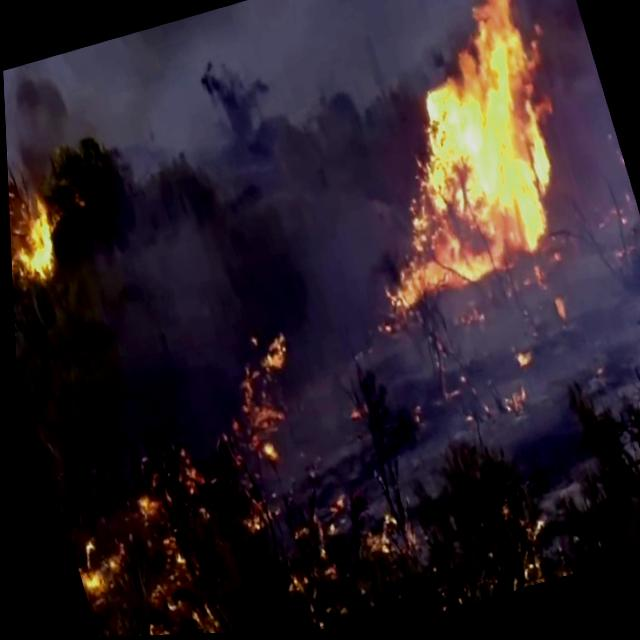fire: (313, 0, 589, 319), (6, 169, 81, 337)
